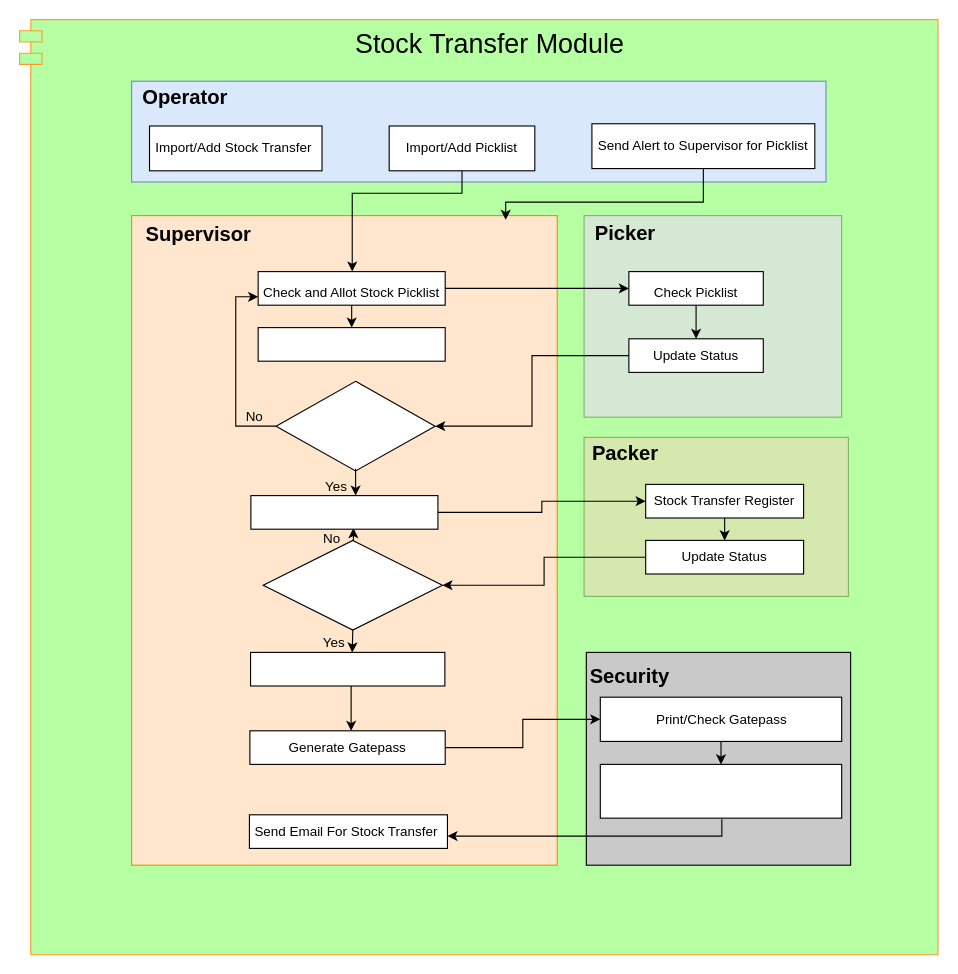
This 958x974 diagram has some shape labels left out. The shapes that lost their labels are listed below. From the top down, each one's centre as x and y in pixels, then its label:
(x=351, y=343): Send Alert to Picker
(x=355, y=425): Is Picklist Status Completed?
(x=344, y=511): Check and Allot for Packaging
(x=352, y=584): Is Packaging Status Completed?
(x=347, y=668): Mark Ready to Dispatch
(x=720, y=790): Enter LR/POD No.and Vehicle Details for C&F Transporter
